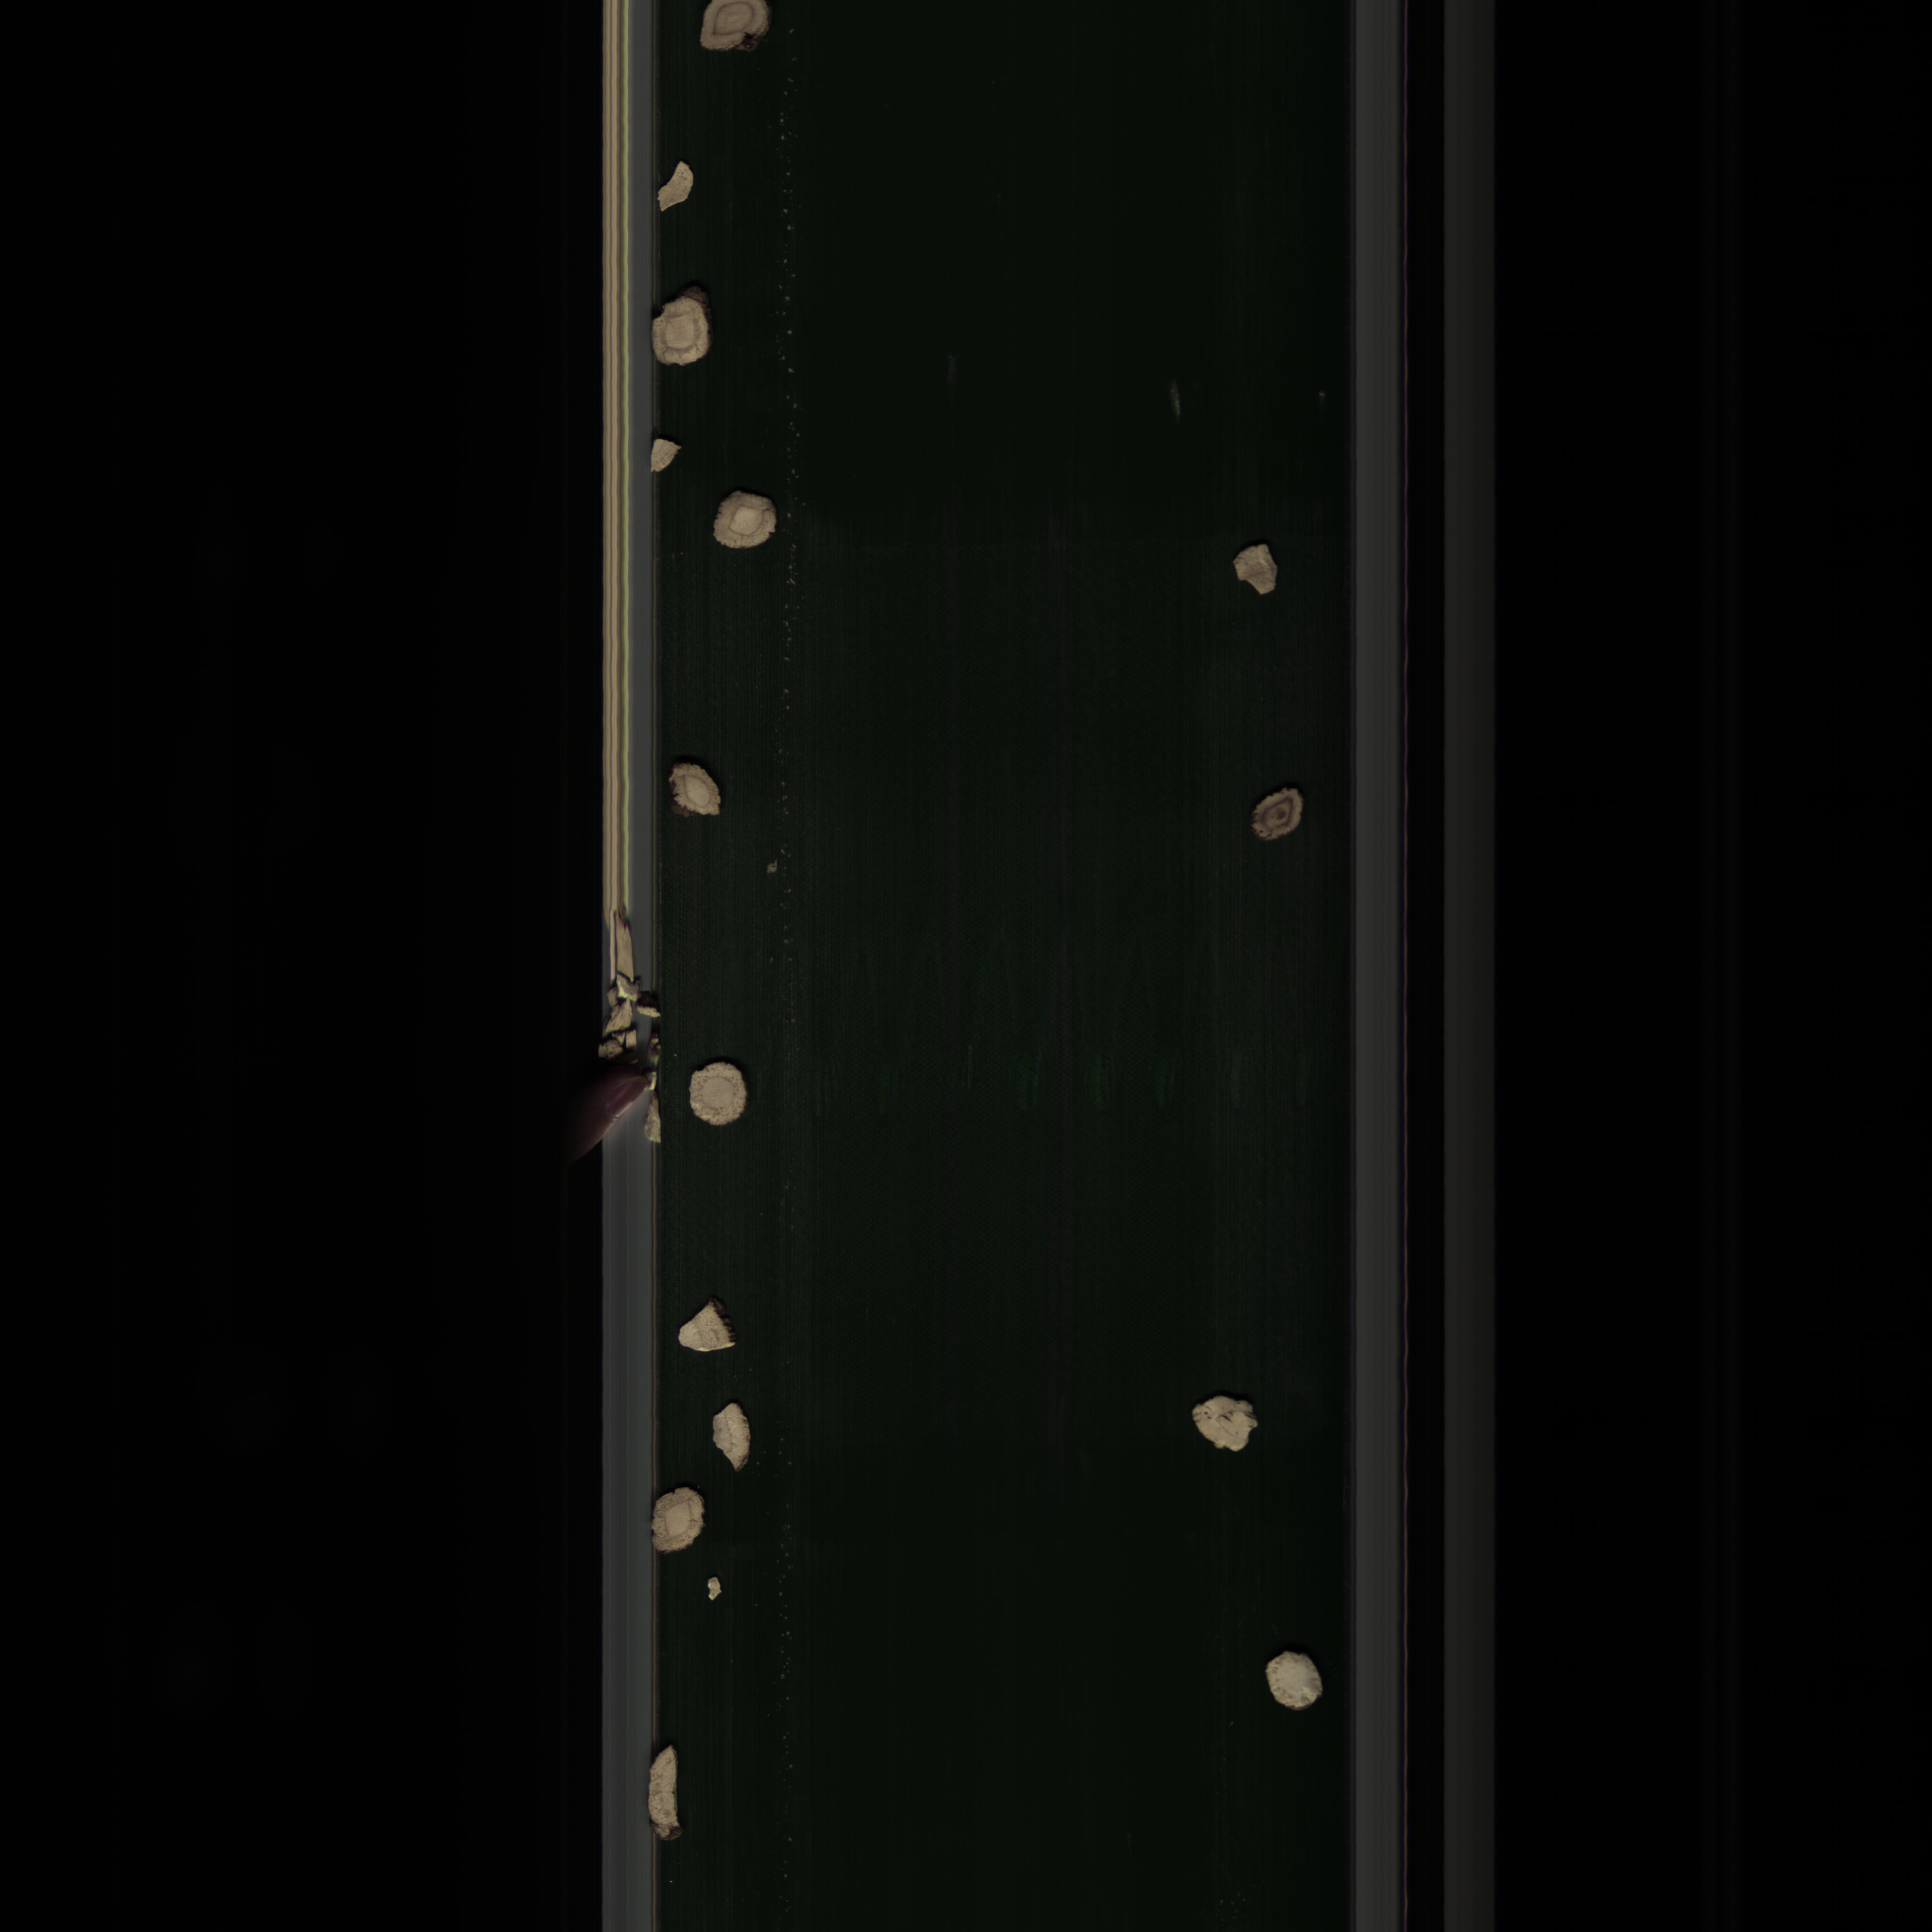debris: (672, 1288, 741, 1366), (702, 1394, 763, 1483), (1223, 541, 1281, 616), (653, 147, 704, 225), (637, 430, 686, 474), (692, 1576, 729, 1606)
distortion: (642, 1732, 706, 1847), (1180, 1391, 1270, 1458), (663, 754, 722, 837)
moldy: (686, 0, 778, 62), (1249, 780, 1304, 849)
